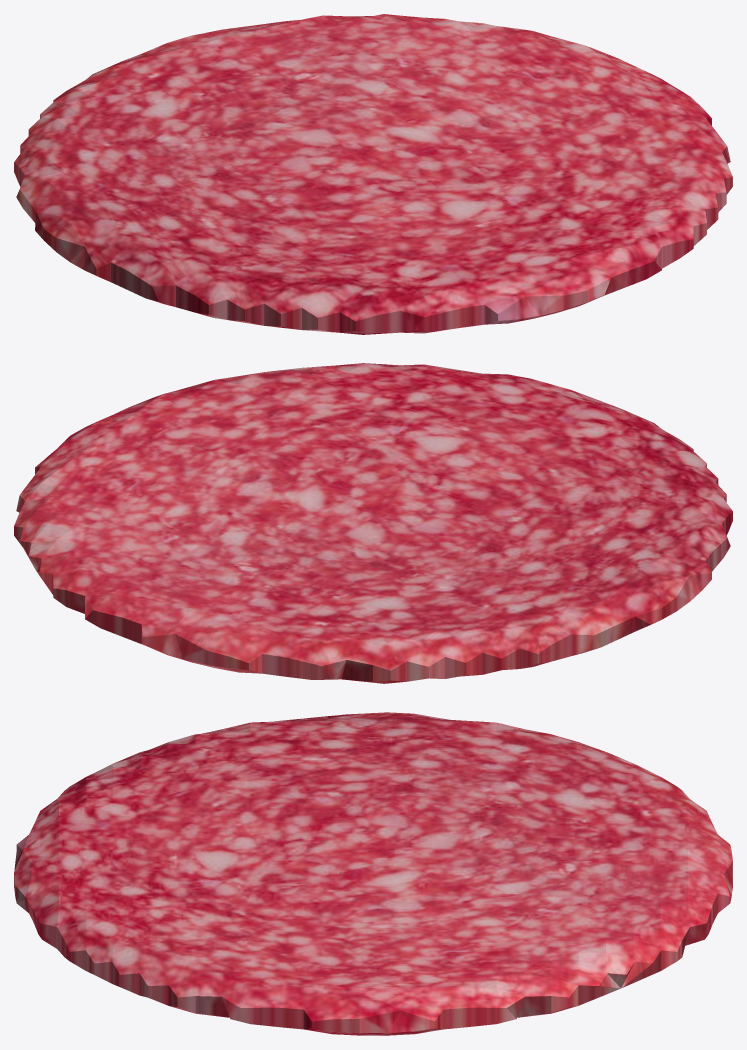
The model's file is Salami.glb.
3 renders of one model, top to bottom at view 1: azimuth 30°, elevation 25°; view 2: azimuth 150°, elevation 25°; view 3: azimuth 270°, elevation 25°, orthographic.
Visible parts, largest first — view 1: Cylinder; view 2: Cylinder; view 3: Cylinder.
Boxes of the visible parts, x1,y1,x2,y2 form: Cylinder: (14,14,732,334); Cylinder: (14,363,732,683); Cylinder: (14,712,732,1035).
Size of the model in its own units: 0.0789 by 0.0048 by 0.0789.
1 material, 1 textured.
